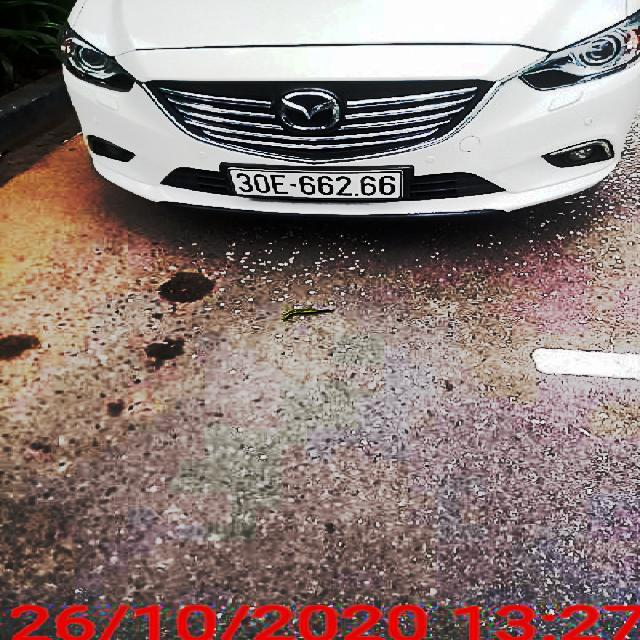license_plate: (223, 166, 409, 203)
